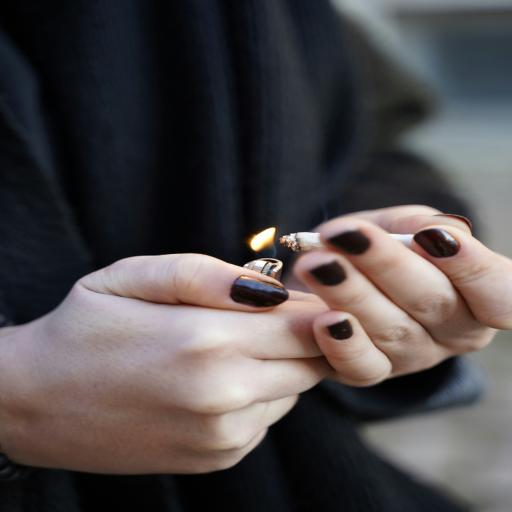lighter: (220, 225, 294, 298)
